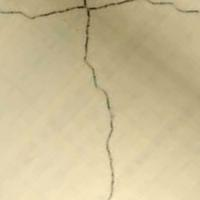crack: (0, 1, 198, 199)
